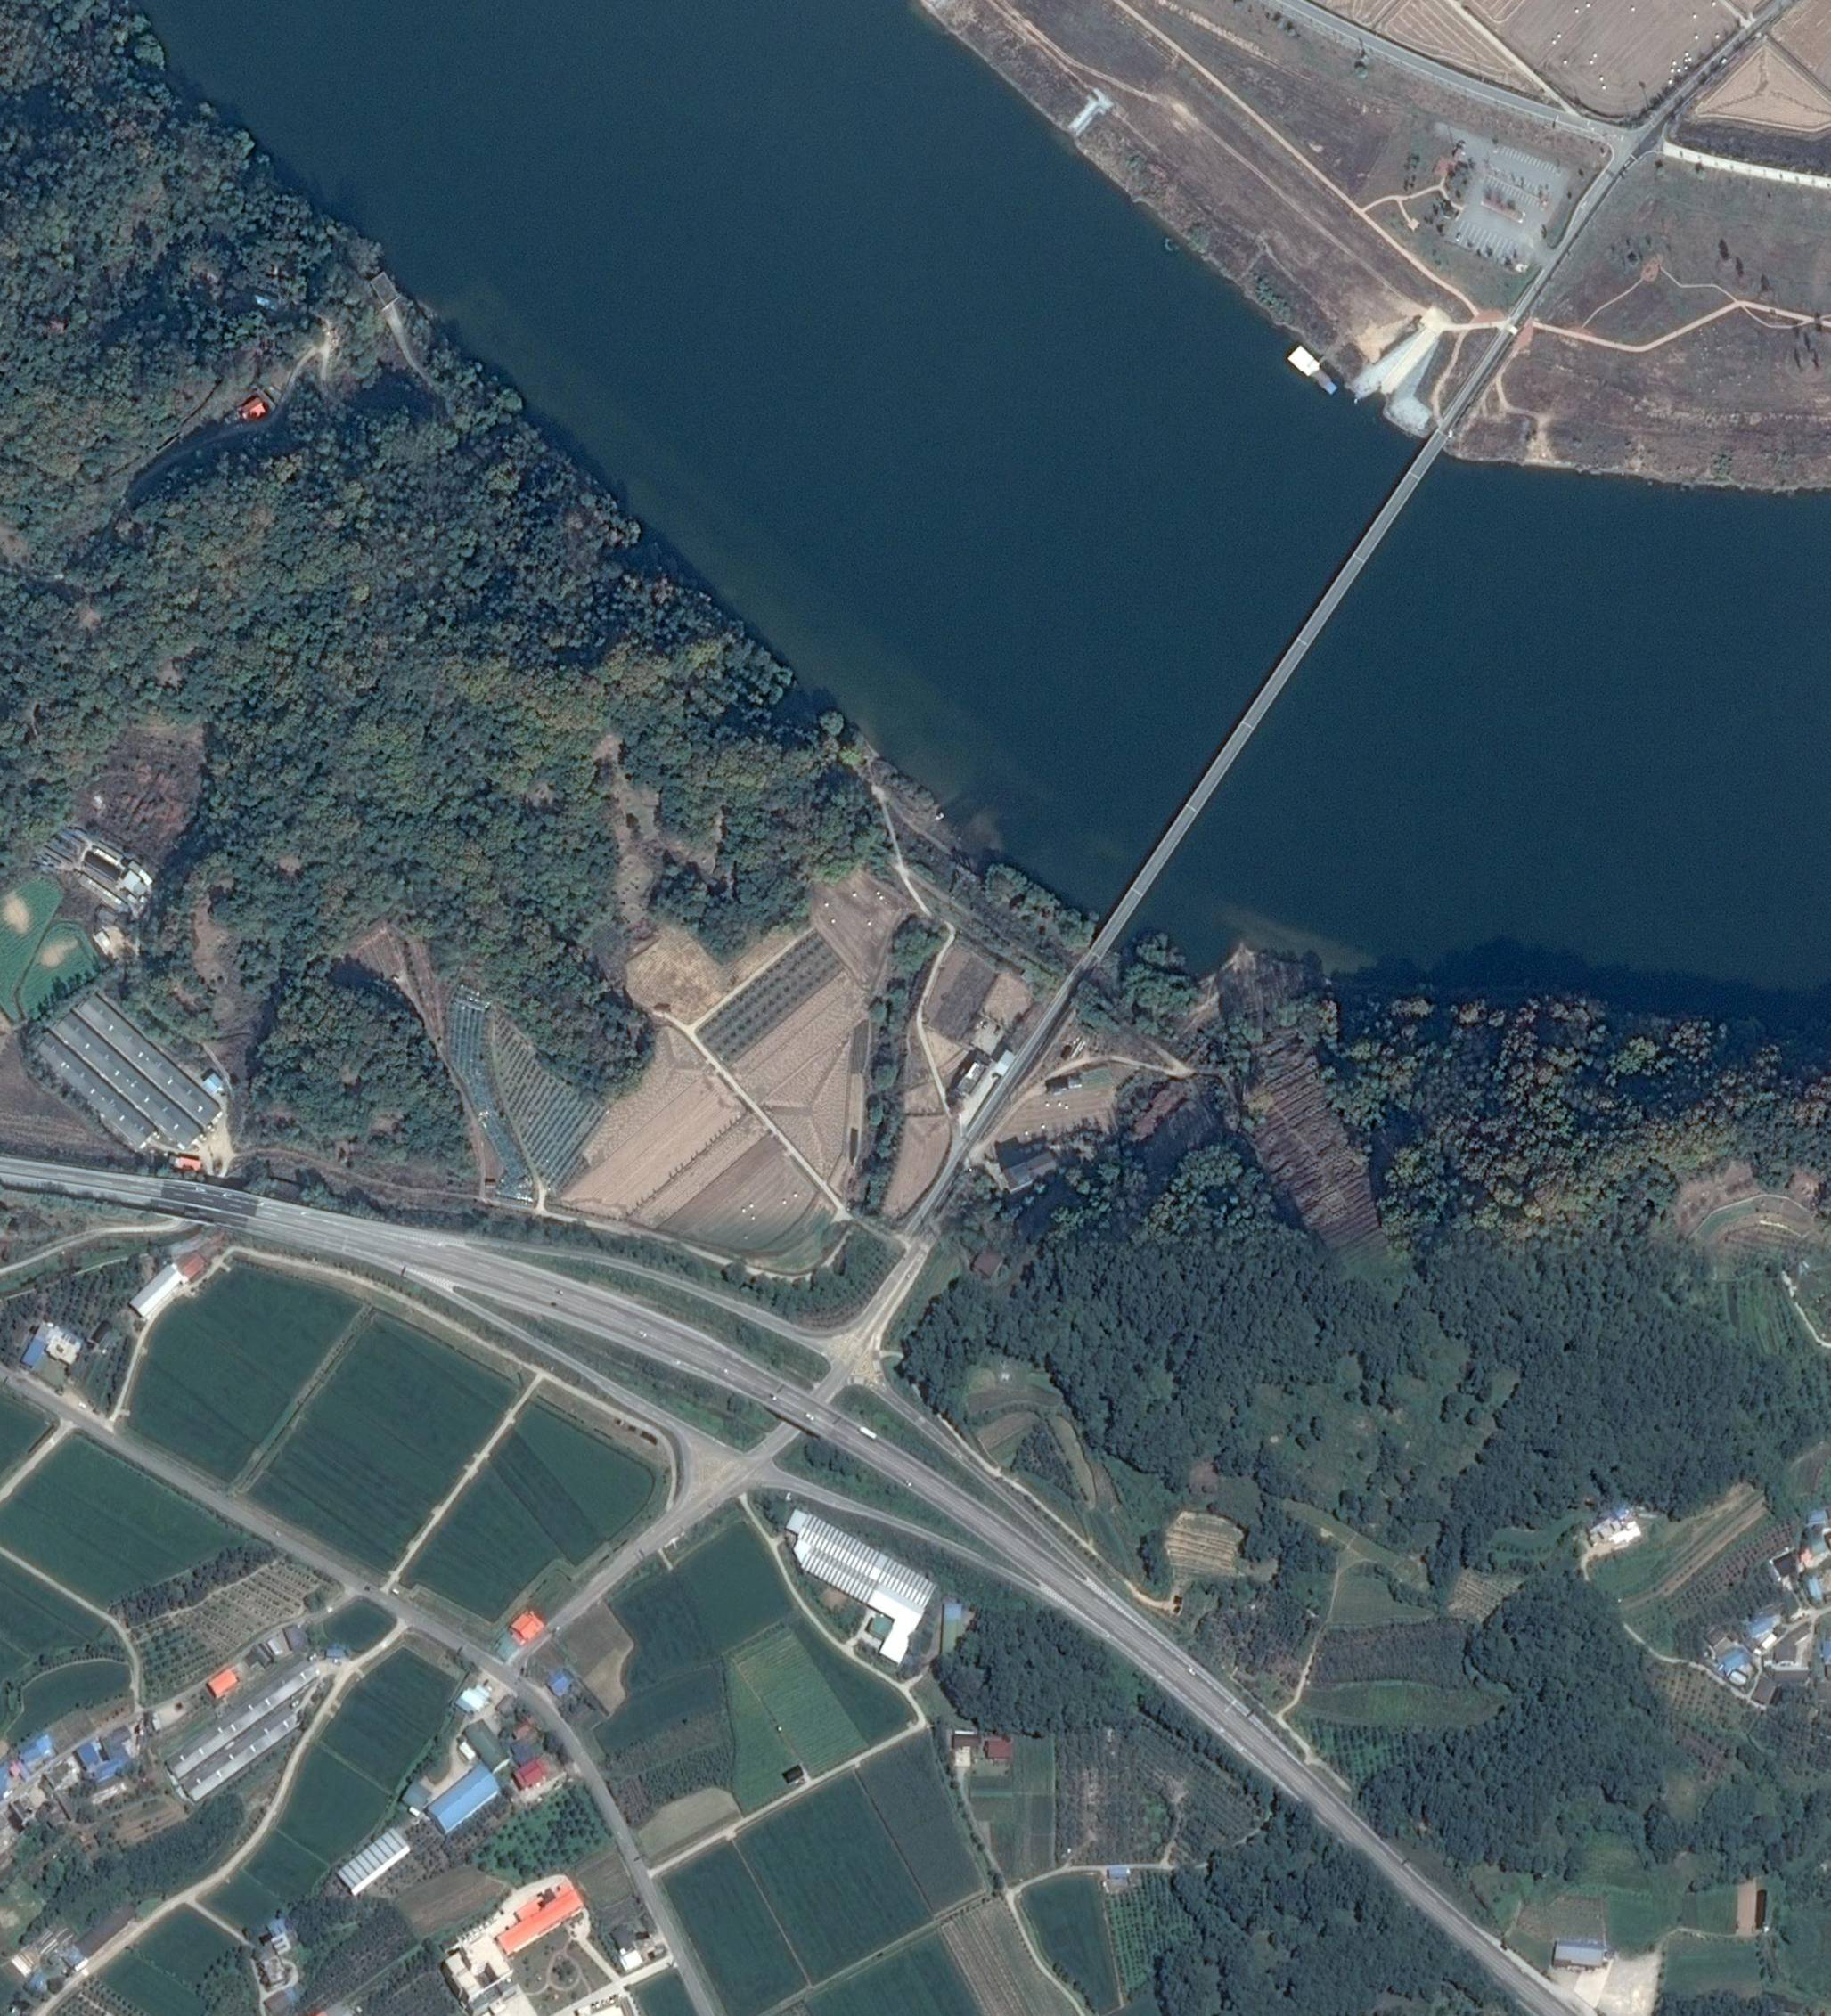bridge: (1084, 436, 1446, 962)
